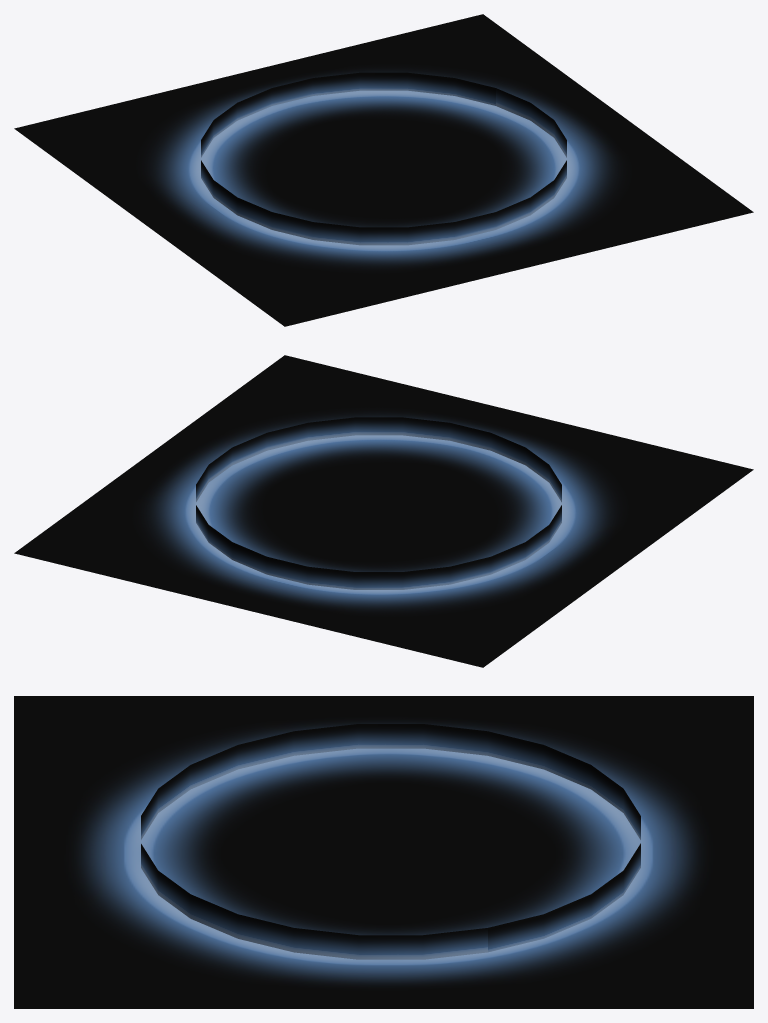
The model's file is MobiJet_HoveringEffect.fbx.
The picture shows the model from 3 angles, top to bottom: view 1: azimuth 30°, elevation 25°; view 2: azimuth 150°, elevation 25°; view 3: azimuth 270°, elevation 25°; orthographic projection. The views are drawn at different scales.
Visible parts, largest first — view 1: MobiJet_HoveringEffect; view 2: MobiJet_HoveringEffect; view 3: MobiJet_HoveringEffect.
Part boxes in pixels (box(x1,y1,x2,y2)): MobiJet_HoveringEffect: box(14, 14, 753, 326); MobiJet_HoveringEffect: box(14, 355, 753, 667); MobiJet_HoveringEffect: box(14, 696, 753, 1008).
Size of the model in its own units: 1 by 0.0734 by 1.
Materials: 1 (1 with a texture image).
